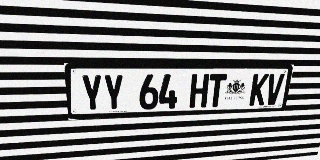4: (159, 74, 179, 109)
6: (139, 74, 159, 110)
H: (189, 74, 209, 108)
K: (249, 74, 269, 106)
T: (207, 74, 227, 107)
V: (264, 74, 285, 105)
Y: (80, 74, 103, 112), (103, 74, 124, 111)
